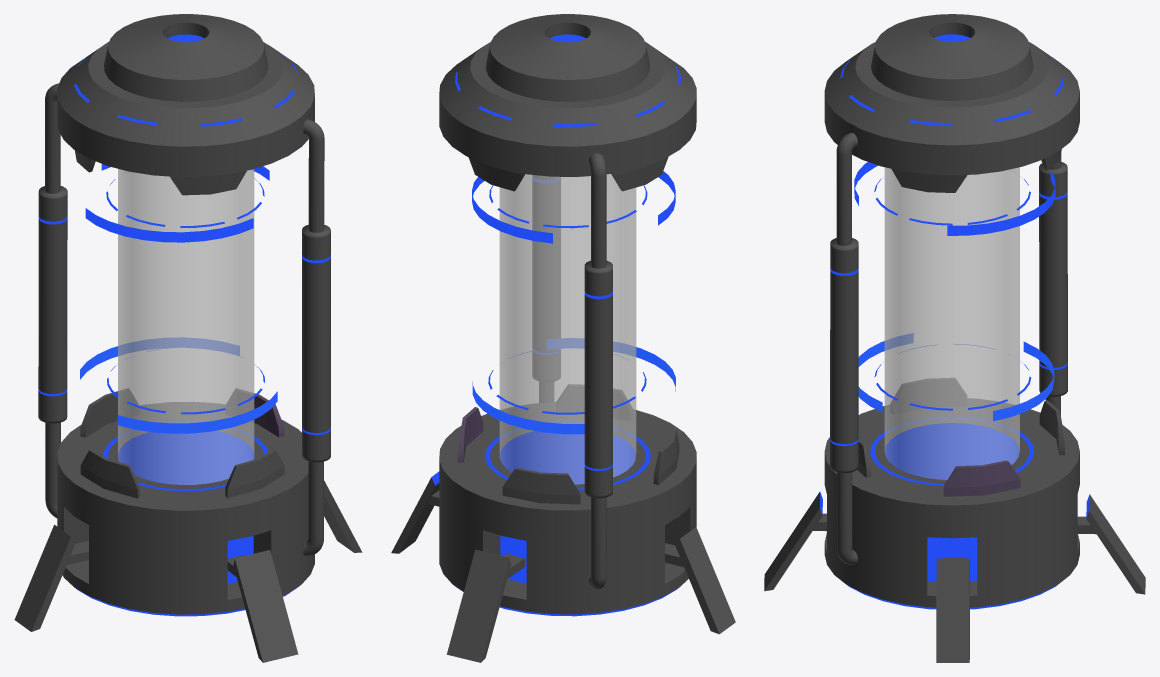
Rendered from capsule NEW design4.glb.
3 views of the same model, side by side, from view 1: azimuth 30°, elevation 25°; view 2: azimuth 150°, elevation 25°; view 3: azimuth 270°, elevation 25° (orthographic).
Parts seen in each view (by area): view 1: Cylinder.010, Cylinder.003, Cylinder, Cylinder.002, Cylinder.017, Cylinder.007, Cylinder.024, Cylinder.008, Cylinder.022, Cylinder.018, Cylinder.004, Cylinder.005 (+7 smaller); view 2: Cylinder.010, Cylinder, Cylinder.003, Cylinder.002, Cylinder.017, Cylinder.006, Cylinder.008, Cylinder.024, Cylinder.001, Cylinder.021, Cylinder.020, Cylinder.022 (+6 smaller); view 3: Cylinder.010, Cylinder.003, Cylinder, Cylinder.017, Cylinder.002, Cylinder.009, Cylinder.011, Cylinder.004, Cylinder.024, Cylinder.018, Cylinder.006, Cylinder.007 (+4 smaller).
Boxes of the visible parts, left/top/right/bottom form: Cylinder.010: left=57, top=402, right=314, bottom=616; Cylinder.003: left=118, top=169, right=254, bottom=484; Cylinder: left=57, top=14, right=314, bottom=176; Cylinder.002: left=38, top=186, right=67, bottom=423; Cylinder.017: left=302, top=225, right=330, bottom=462; Cylinder.007: left=233, top=550, right=298, bottom=662; Cylinder.024: left=80, top=337, right=277, bottom=433; Cylinder.008: left=14, top=524, right=75, bottom=631; Cylinder.022: left=85, top=164, right=269, bottom=242; Cylinder.018: left=303, top=119, right=324, bottom=232; Cylinder.004: left=80, top=449, right=139, bottom=498; Cylinder.005: left=225, top=449, right=284, bottom=498; Cylinder.010: left=439, top=402, right=696, bottom=616; Cylinder: left=439, top=14, right=696, bottom=176; Cylinder.003: left=499, top=174, right=636, bottom=484; Cylinder.002: left=584, top=260, right=612, bottom=498; Cylinder.017: left=532, top=175, right=560, bottom=381; Cylinder.006: left=447, top=549, right=510, bottom=662; Cylinder.008: left=675, top=527, right=735, bottom=634; Cylinder.024: left=472, top=338, right=675, bottom=434; Cylinder.001: left=502, top=467, right=580, bottom=504; Cylinder.021: left=588, top=153, right=606, bottom=268; Cylinder.020: left=588, top=497, right=606, bottom=589; Cylinder.022: left=472, top=171, right=675, bottom=243; Cylinder.010: left=824, top=398, right=1079, bottom=609; Cylinder.003: left=884, top=167, right=1019, bottom=479; Cylinder: left=824, top=14, right=1079, bottom=175; Cylinder.017: left=830, top=238, right=858, bottom=472; Cylinder.002: left=1039, top=162, right=1067, bottom=396; Cylinder.009: left=936, top=558, right=969, bottom=662; Cylinder.011: left=943, top=460, right=1020, bottom=496; Cylinder.004: left=890, top=378, right=966, bottom=414; Cylinder.024: left=858, top=333, right=1054, bottom=421; Cylinder.018: left=836, top=132, right=857, bottom=245; Cylinder.006: left=1086, top=494, right=1145, bottom=594; Cylinder.007: left=764, top=491, right=822, bottom=591.
Bounding box in the file's own units: 6.68 × 10.77 × 6.76.
